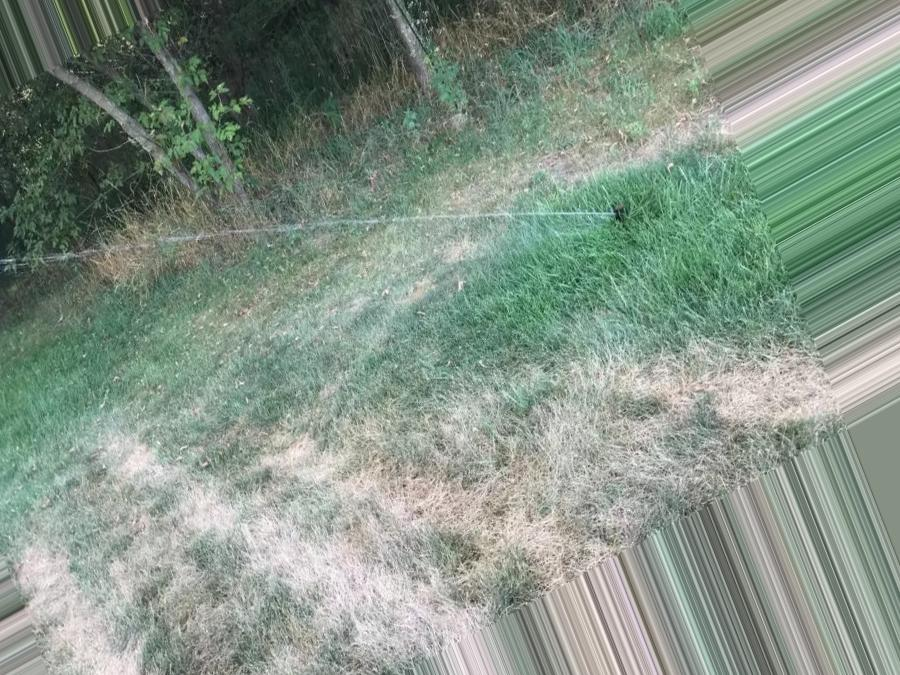patch: (111, 440, 342, 597), (435, 470, 605, 541), (656, 356, 825, 415), (372, 563, 446, 618)
